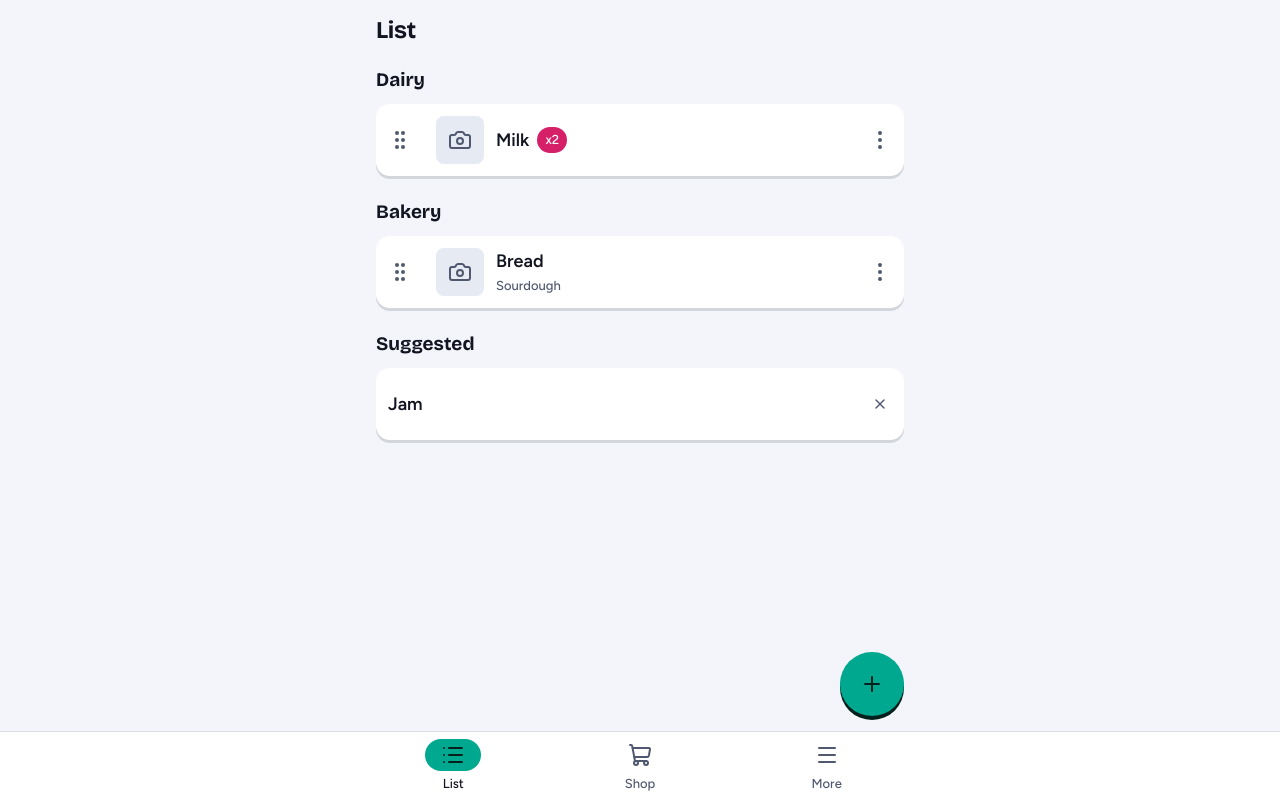
it: Suggested items › reports a refused suggestion add and keeps it available
Click the button with aria-label "Add Jam to list" at x=405, y=404, box [376, 368, 904, 440]
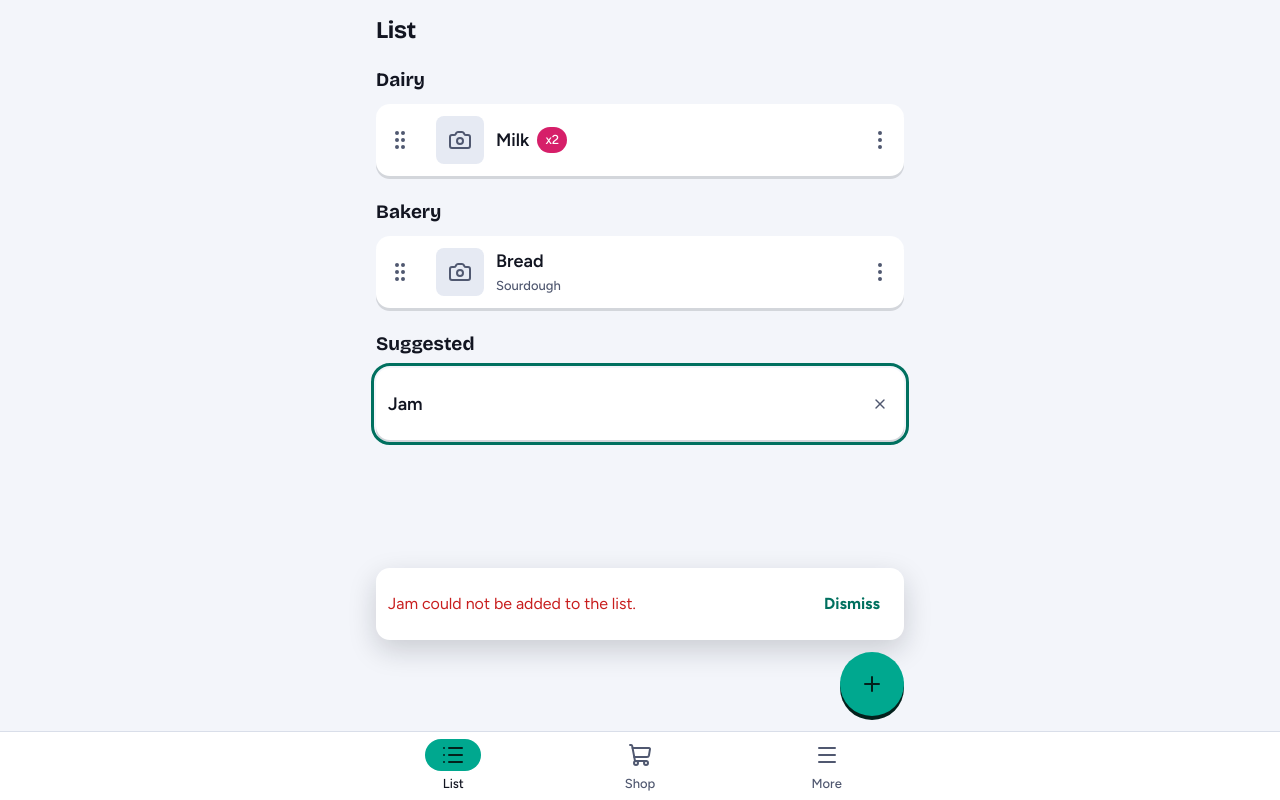
Expected: the text "Jam" is shown, [388, 392, 423, 416]
Now the message shows "Jam could not be added to the list.", box [388, 594, 636, 613]
